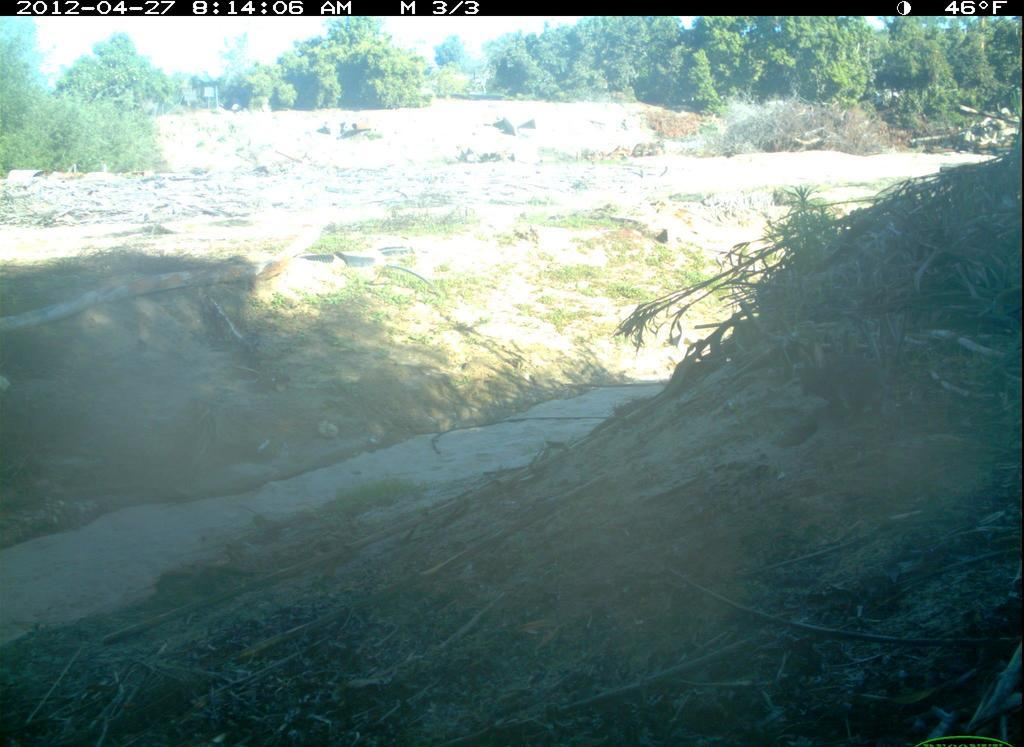rabbit: (791, 334, 898, 424)
